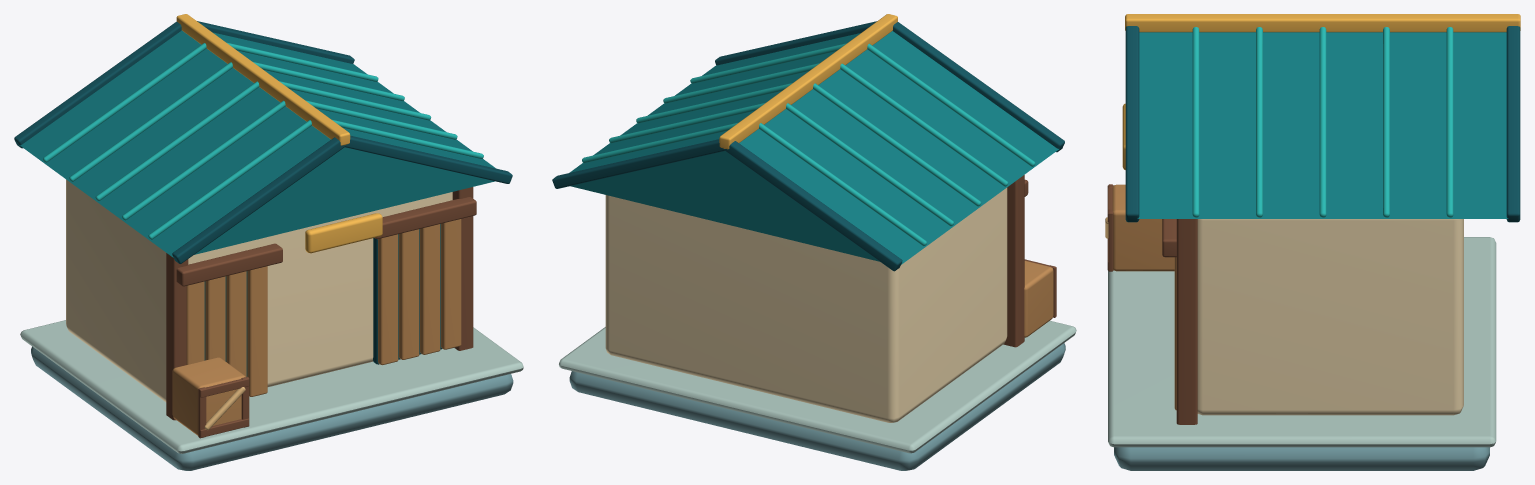
Rendered from Warehouse_T1.fbx.
The picture shows the model from 3 angles, left to right: view 1: azimuth 30°, elevation 25°; view 2: azimuth 150°, elevation 25°; view 3: azimuth 270°, elevation 25°; orthographic projection. The views are drawn at different scales.
Parts seen in each view (by area): view 1: Warehouse_T1_Static; view 2: Warehouse_T1_Static; view 3: Warehouse_T1_Static.
Part boxes in pixels (x1,y1,x2,y2): Warehouse_T1_Static: [14, 14, 523, 470]; Warehouse_T1_Static: [552, 14, 1076, 470]; Warehouse_T1_Static: [1105, 14, 1520, 470].
Bounding box in the file's own units: 4.62 × 3.83 × 3.98.
1 material, 1 textured.
